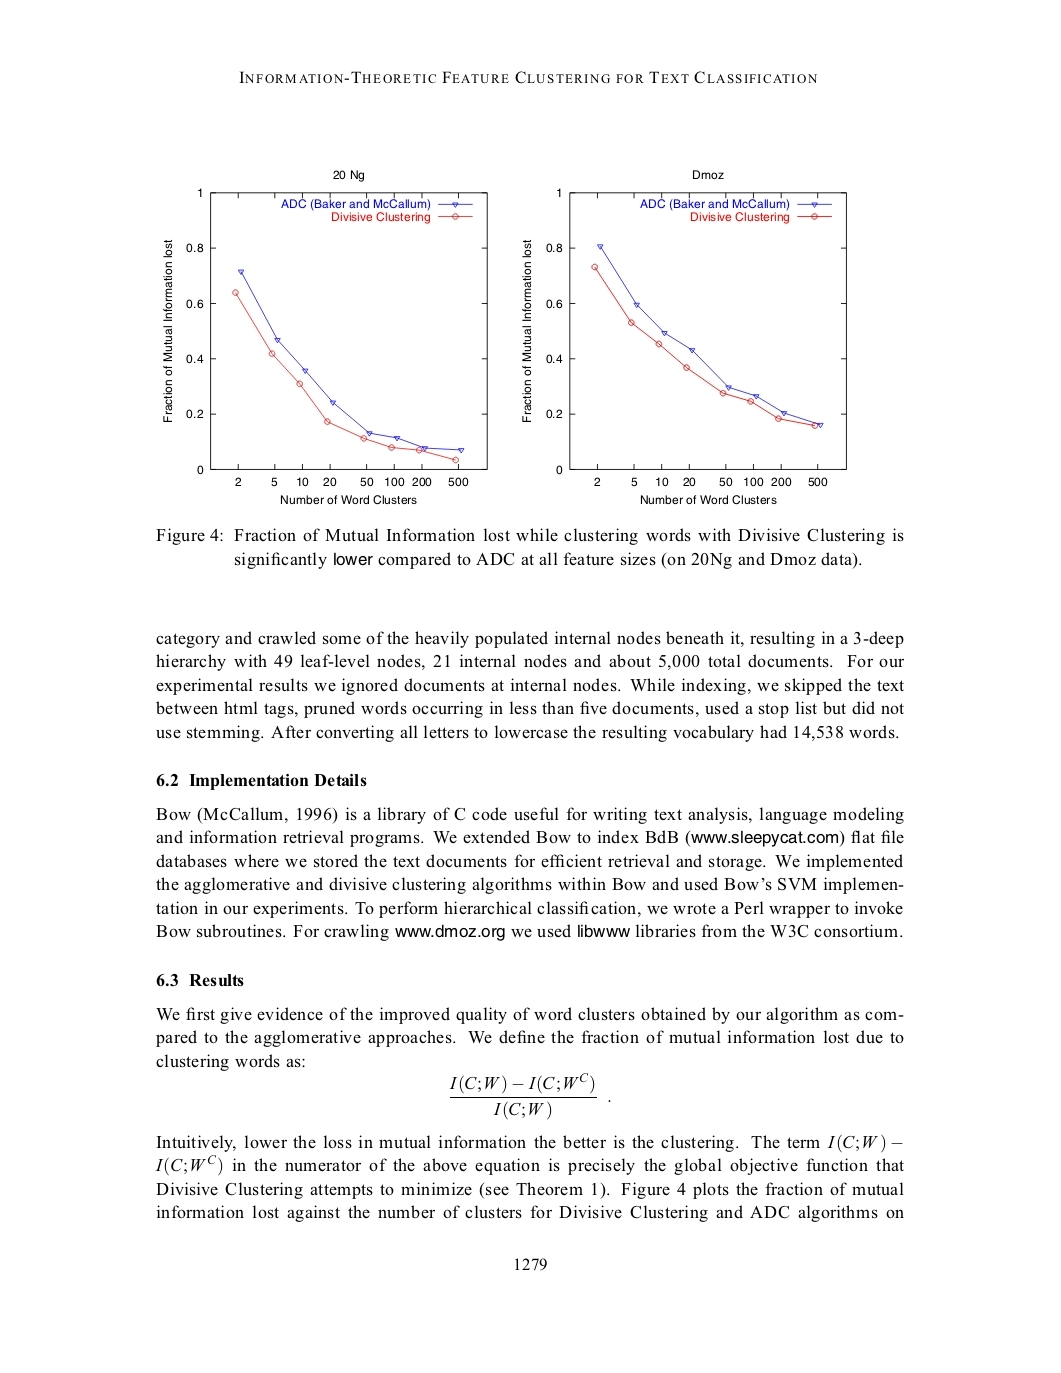figure: (163, 188, 487, 504), (522, 188, 846, 504)
formula: (449, 1073, 596, 1097), (493, 1099, 610, 1120)
